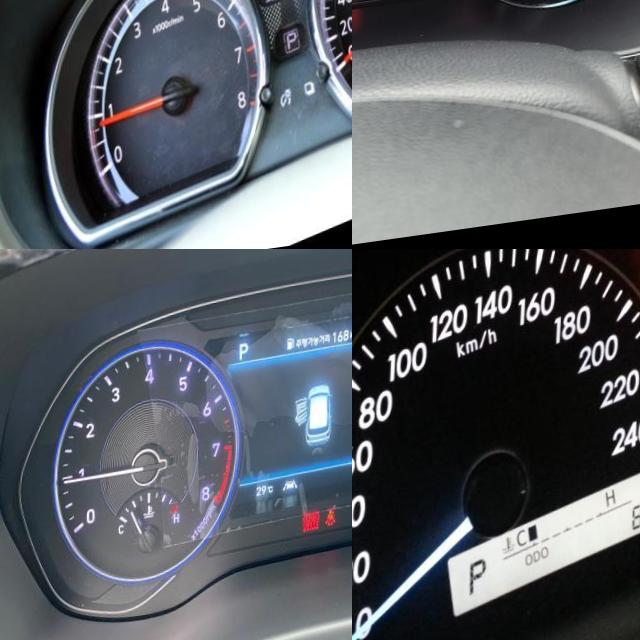LaneCenteringOff: (285, 486, 301, 501)
